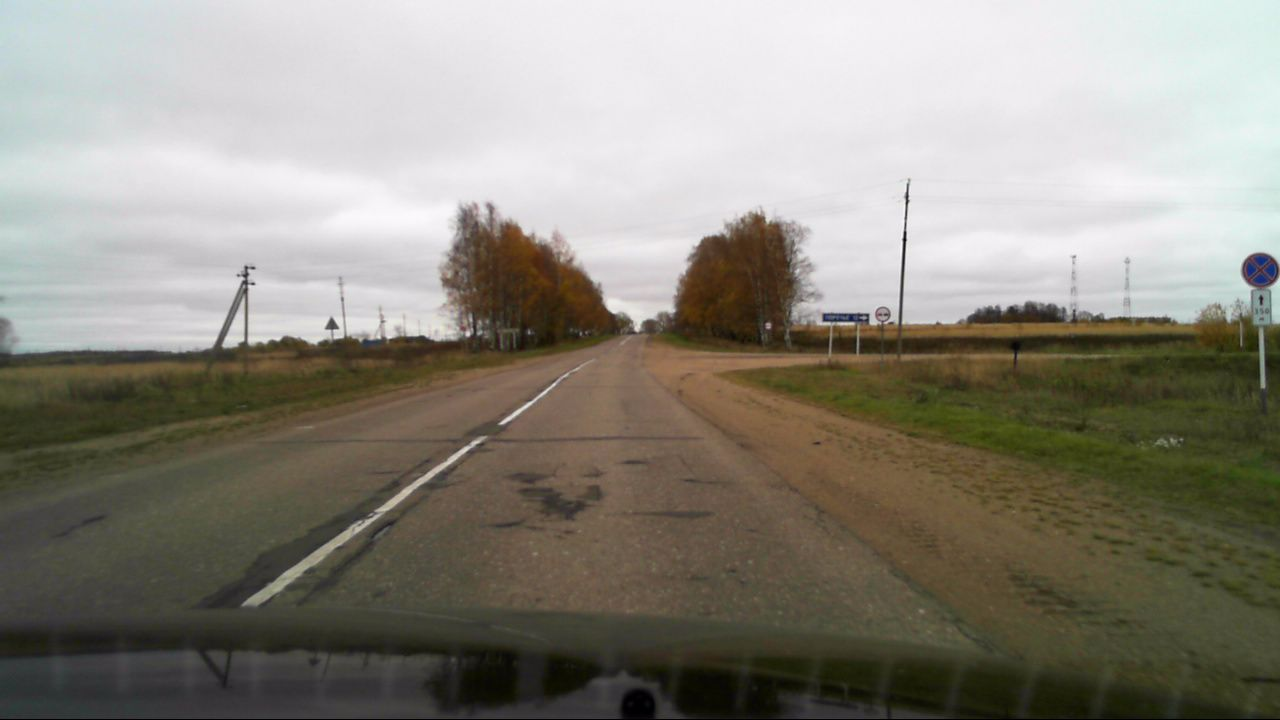No Parking: (1239, 251, 1279, 289)
